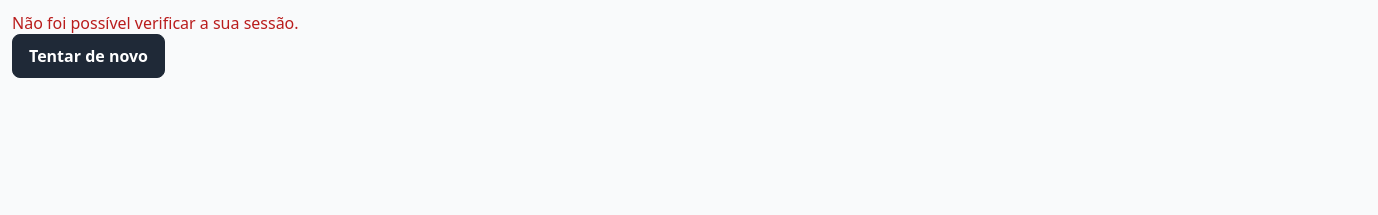
Scenario: rota protegida › falha passageira ao ler a sessão oferece tentar de novo, sem mandar para o login
Check: the message reads "Não foi possível verificar a sua sessão.", box [12,12,299,34]
Click the button "Tentar de novo": (88, 56) [12,34,165,78]
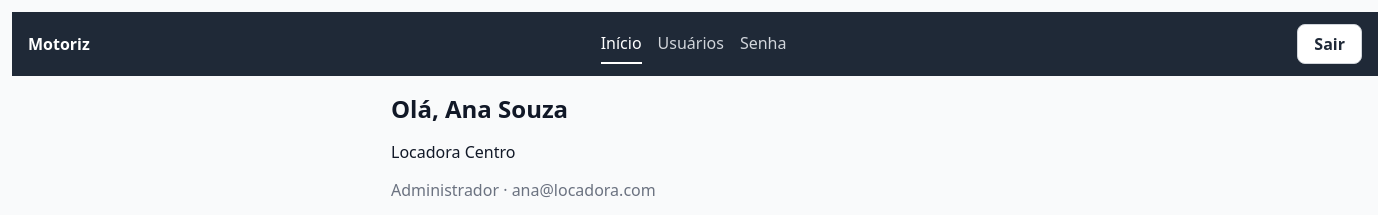
Check: the heading "Olá, Ana Souza" is shown, box [391,92,568,125]
